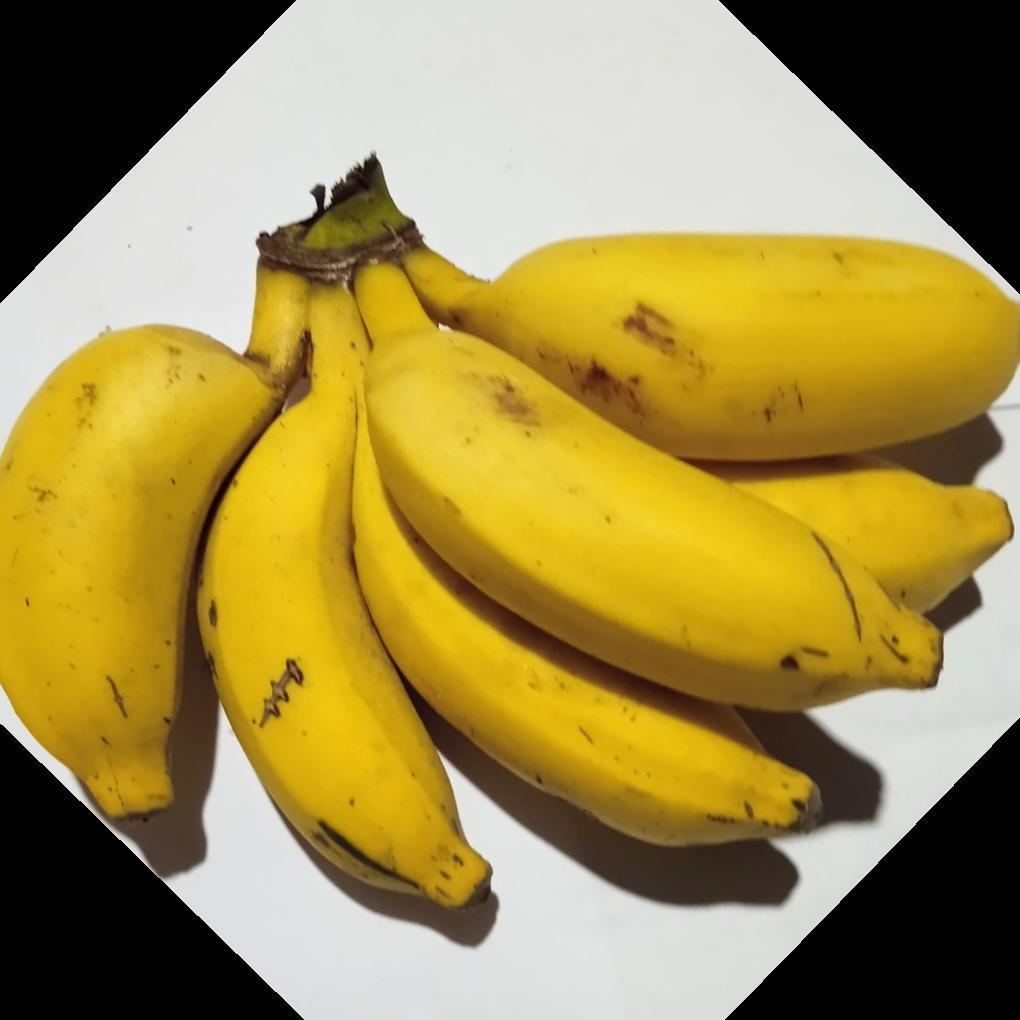Banana Ripe: (16, 167, 1020, 927), (215, 224, 660, 994), (318, 283, 1004, 704), (359, 107, 1020, 480), (6, 279, 296, 970)
